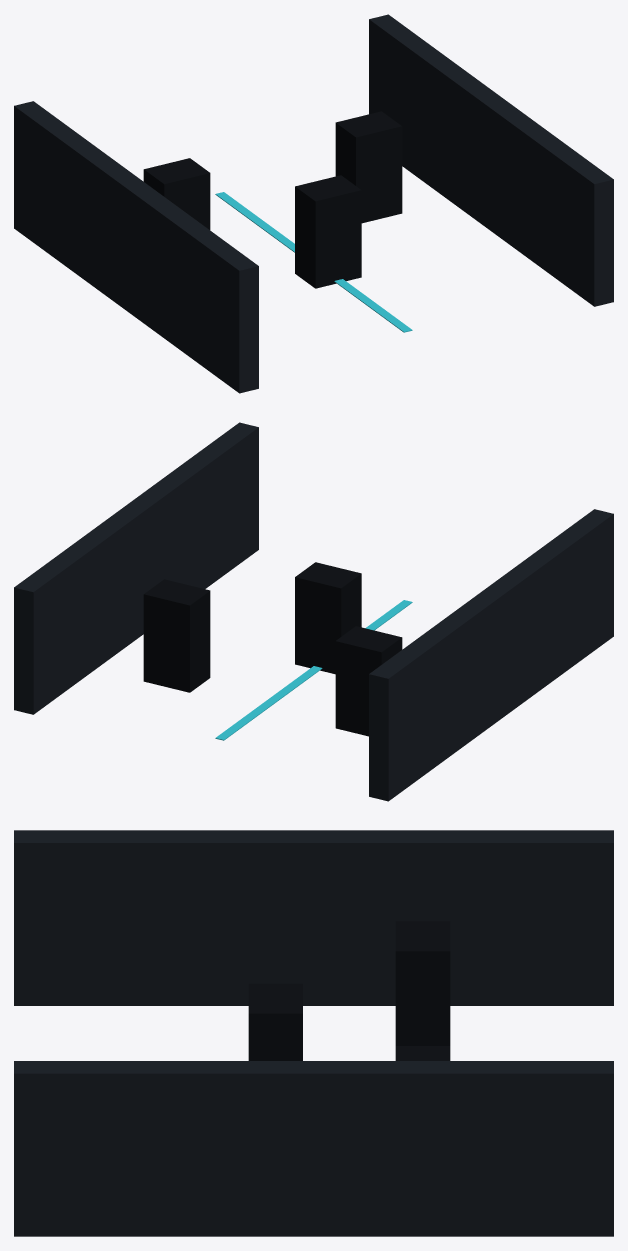
File: module.server_room_cover.glb
3 views of the same model, one above another, from view 1: azimuth 30°, elevation 25°; view 2: azimuth 150°, elevation 25°; view 3: azimuth 270°, elevation 25° (orthographic). The views are drawn at different scales.
Parts seen in each view (by area): view 1: server_wall_l, server_wall_r, rack_b, rack_c, rack_a, coolant_line; view 2: server_wall_l, server_wall_r, rack_c, rack_b, rack_a, coolant_line; view 3: server_wall_r, server_wall_l, rack_a, rack_b, rack_c.
Boxes of the visible parts, x1=… form: server_wall_l: x1=14, y1=101, x2=258, y2=393; server_wall_r: x1=369, y1=14, x2=613, y2=306; rack_b: x1=295, y1=175, x2=361, y2=288; rack_c: x1=335, y1=111, x2=402, y2=223; rack_a: x1=143, y1=158, x2=210, y2=229; coolant_line: x1=215, y1=192, x2=412, y2=332; server_wall_l: x1=369, y1=509, x2=613, y2=801; server_wall_r: x1=14, y1=422, x2=258, y2=714; rack_c: x1=143, y1=579, x2=210, y2=692; rack_b: x1=295, y1=562, x2=361, y2=674; rack_a: x1=335, y1=626, x2=402, y2=736; coolant_line: x1=215, y1=600, x2=412, y2=740; server_wall_r: x1=14, y1=1061, x2=613, y2=1236; server_wall_l: x1=14, y1=830, x2=613, y2=1005; rack_a: x1=395, y1=921, x2=450, y2=1045; rack_b: x1=248, y1=983, x2=302, y2=1060; rack_c: x1=395, y1=1046, x2=450, y2=1060.
Bounding box in the file's own units: 10.55 × 3.3 × 11.
